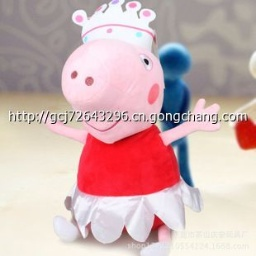Peppa: (39, 1, 225, 243)
